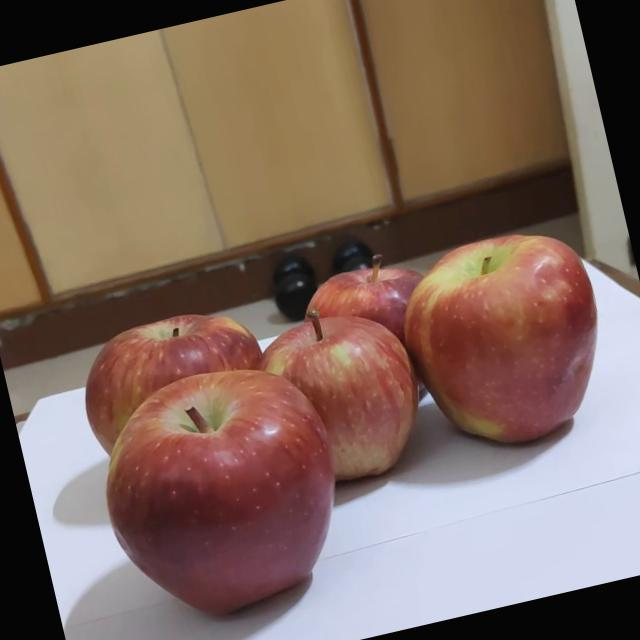apple: (97, 340, 379, 633), (58, 262, 290, 488), (402, 224, 627, 454), (250, 283, 450, 483), (282, 220, 451, 384)
